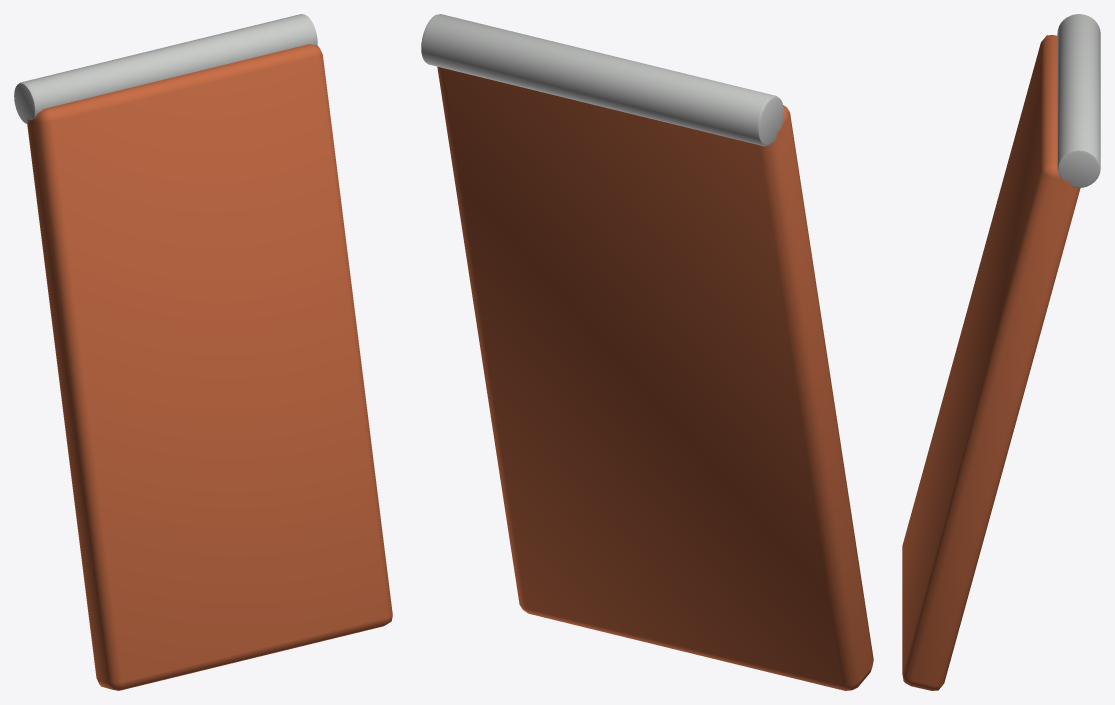
Rendered from pedestal_spot_welder_foot_pedal.glb.
3 views of the same model, side by side, from view 1: azimuth 30°, elevation 25°; view 2: azimuth 150°, elevation 25°; view 3: azimuth 270°, elevation 25° (orthographic). The views are drawn at different scales.
Parts seen in each view (by area): view 1: pedestal_spot_welder_foot_pedal; view 2: pedestal_spot_welder_foot_pedal; view 3: pedestal_spot_welder_foot_pedal.
Boxes of the visible parts, x1,y1,x2,y2 form: pedestal_spot_welder_foot_pedal: [14, 14, 392, 690]; pedestal_spot_welder_foot_pedal: [421, 14, 873, 690]; pedestal_spot_welder_foot_pedal: [902, 14, 1100, 690].
Bounding box in the file's own units: 0.12 × 0.2227 × 0.0734.
